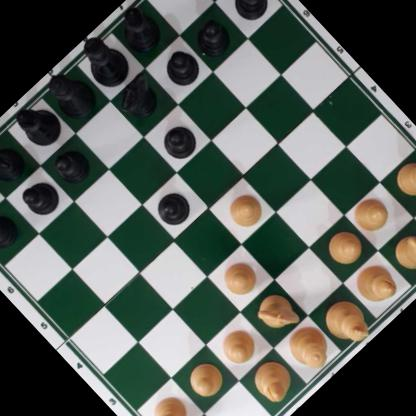black-bishop: (109, 0, 168, 60), (9, 94, 67, 153)
black-king: (71, 28, 138, 96)
black-knight: (111, 70, 170, 128), (0, 128, 30, 191)
black-pawn: (15, 174, 63, 222), (154, 116, 202, 164), (189, 14, 236, 62), (158, 45, 204, 92), (48, 143, 94, 189), (150, 186, 194, 231), (225, 0, 275, 27), (0, 207, 24, 257)
black-queen: (39, 62, 102, 125)
white-bishop: (349, 258, 403, 312), (245, 355, 299, 408)
white-king: (317, 293, 375, 352)
white-knight: (250, 286, 303, 339), (388, 227, 416, 286)
white-pawn: (213, 322, 262, 371), (215, 254, 263, 302), (348, 191, 395, 238), (221, 187, 268, 234), (181, 356, 227, 402), (320, 225, 366, 271), (143, 389, 194, 416), (389, 154, 416, 202)
white-queen: (278, 317, 340, 379)
